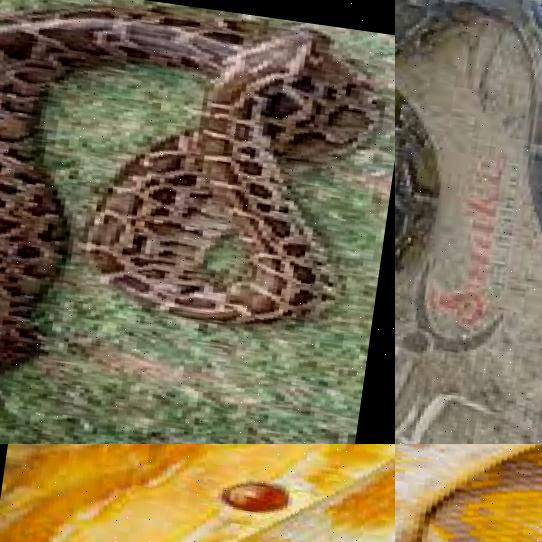snake: (0, 0, 395, 444), (395, 0, 542, 444), (0, 444, 395, 542), (395, 444, 542, 542)
